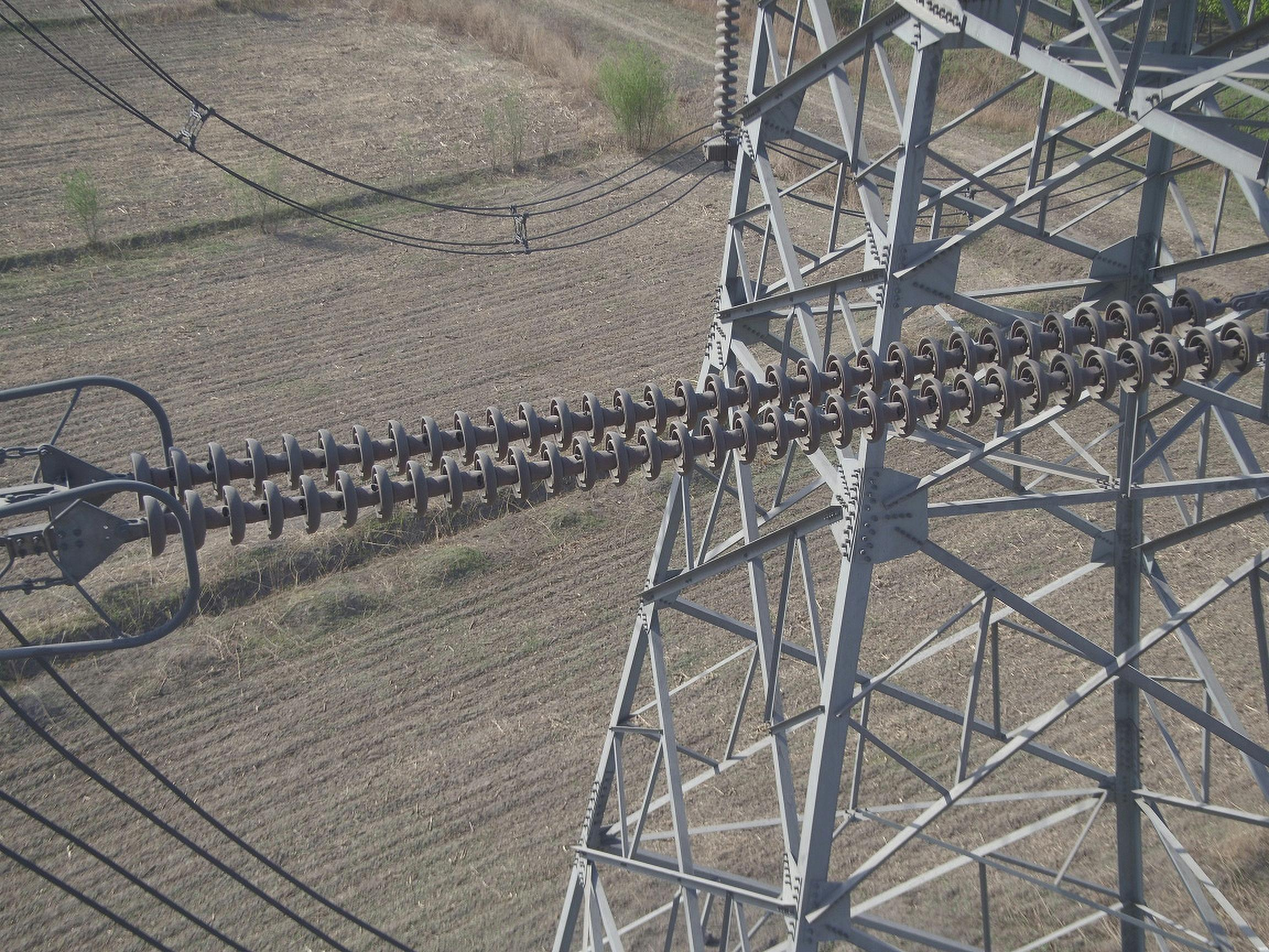insulator: (127, 281, 1261, 564), (706, 1, 744, 138)
